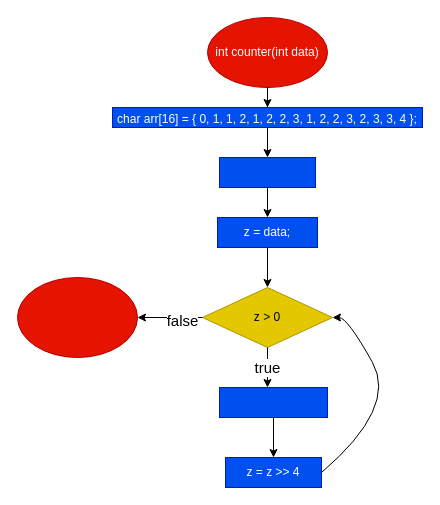
Image size: 440x505. Some labels were removed from this diagram. Here are the shapes that lost their labels. From the top down, the centre of each, then its label:
At pixel 267 172: "int w = 0, z = 0;".
At pixel 77 317: "return w".
At pixel 273 402: "w = w + arr[z & 15]".
